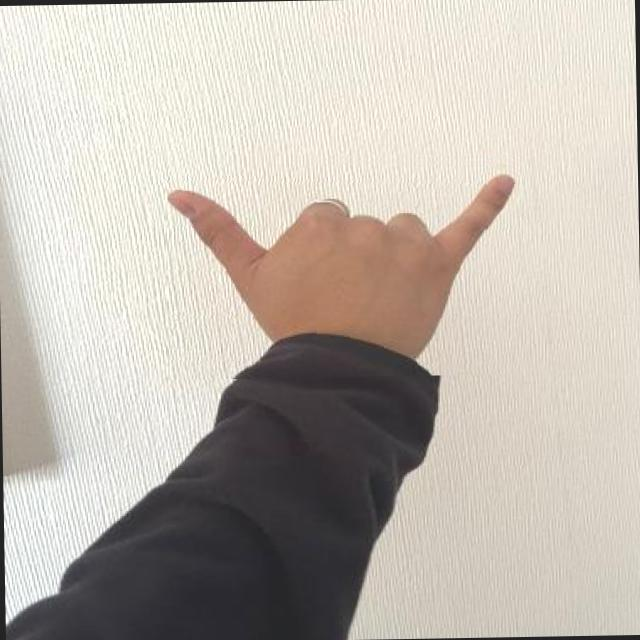Y: (164, 150, 526, 380)
